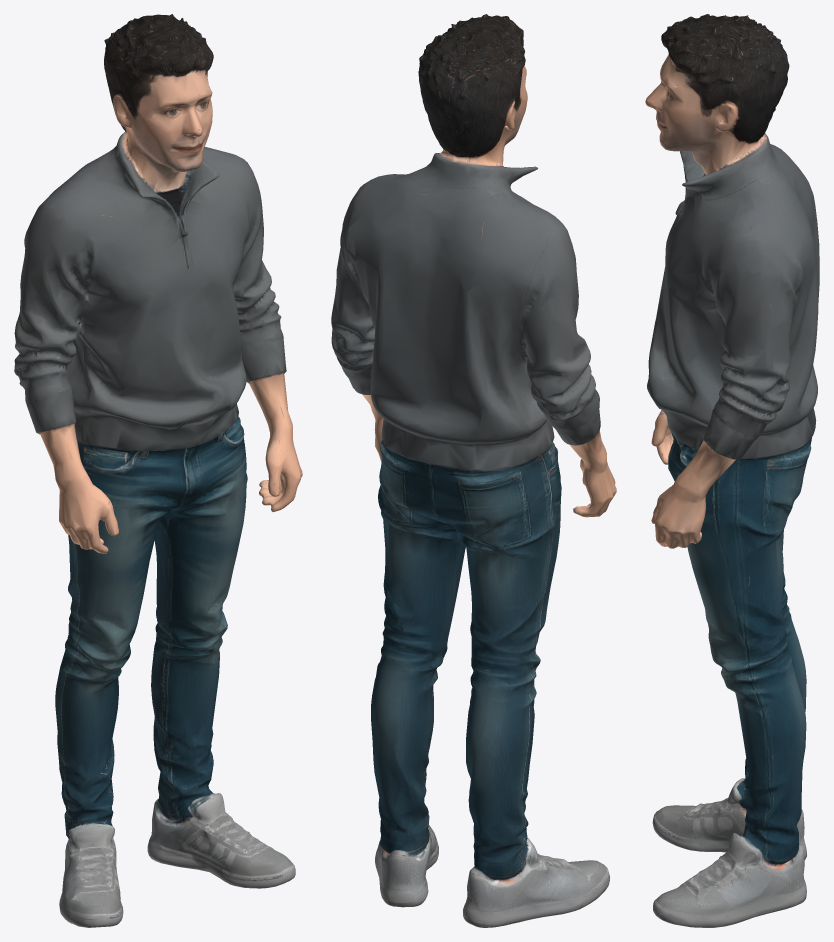
File: altman.glb
3 renders of one model, left to right at view 1: azimuth 30°, elevation 25°; view 2: azimuth 150°, elevation 25°; view 3: azimuth 270°, elevation 25°, orthographic.
Visible parts, largest first — view 1: Mesh_0; view 2: Mesh_0; view 3: Mesh_0.
Boxes of the visible parts, bbox=[...] form: Mesh_0: bbox=[14, 14, 302, 927]; Mesh_0: bbox=[331, 14, 616, 927]; Mesh_0: bbox=[645, 14, 819, 927].
Bounding box in the file's own units: 0.5862 × 1.91 × 0.3509.
1 material, 1 textured.
